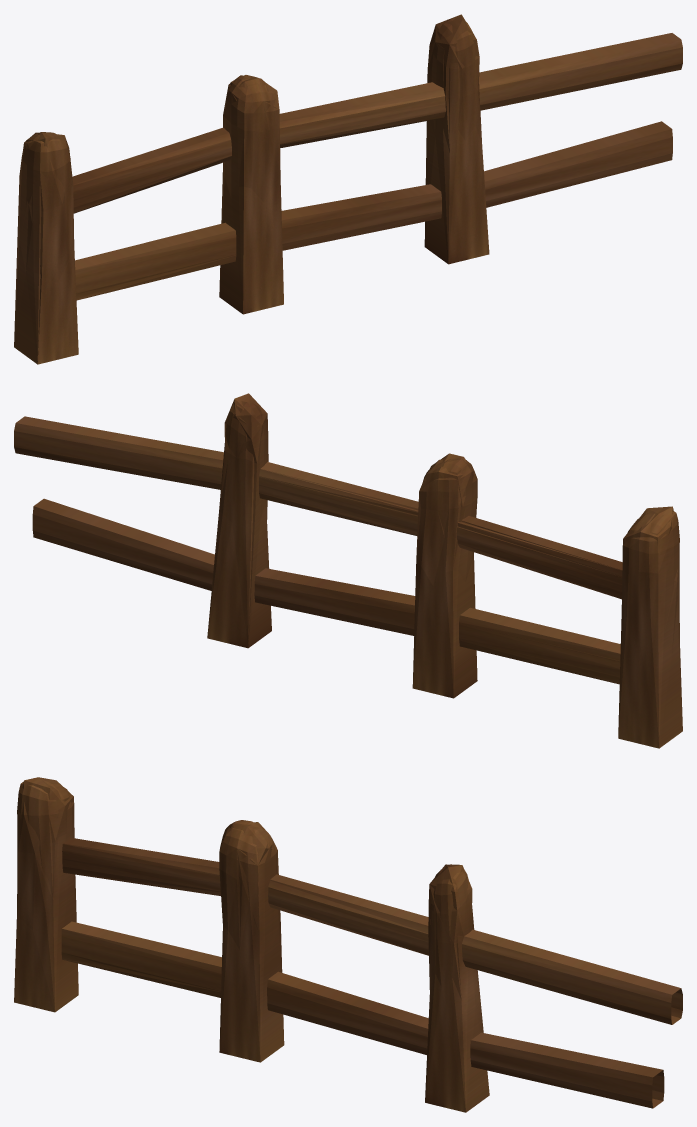
File: Fence_3TilesLength.fbx
The picture shows the model from 3 angles, top to bottom: view 1: azimuth 30°, elevation 25°; view 2: azimuth 150°, elevation 25°; view 3: azimuth 330°, elevation 25°; orthographic projection.
Parts seen in each view (by area): view 1: Fence#2, Fence#3; view 2: Fence#2, Fence#3; view 3: Fence#2, Fence#3.
Part boxes in pixels (box(x1,y1,x2,y2)): Fence#2: box(14, 18, 682, 364); Fence#3: box(19, 14, 682, 363); Fence#2: box(14, 401, 682, 748); Fence#3: box(16, 393, 677, 739); Fence#2: box(14, 779, 682, 1112); Fence#3: box(14, 777, 682, 1107).
Size of the model in its own units: 6.36 by 2.2 by 0.4391.
1 material, 1 textured.
